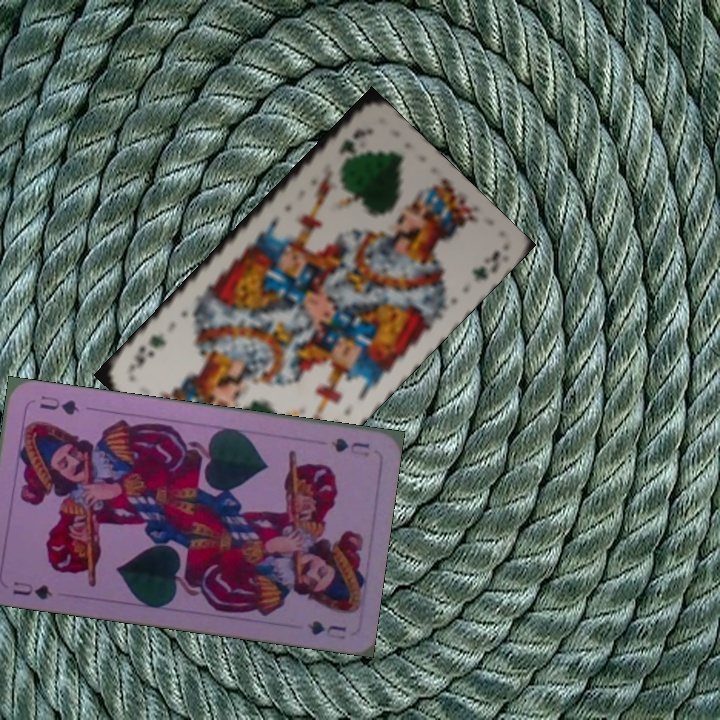GK: (334, 128, 368, 157)
GU: (9, 577, 56, 602), (327, 434, 372, 460)
